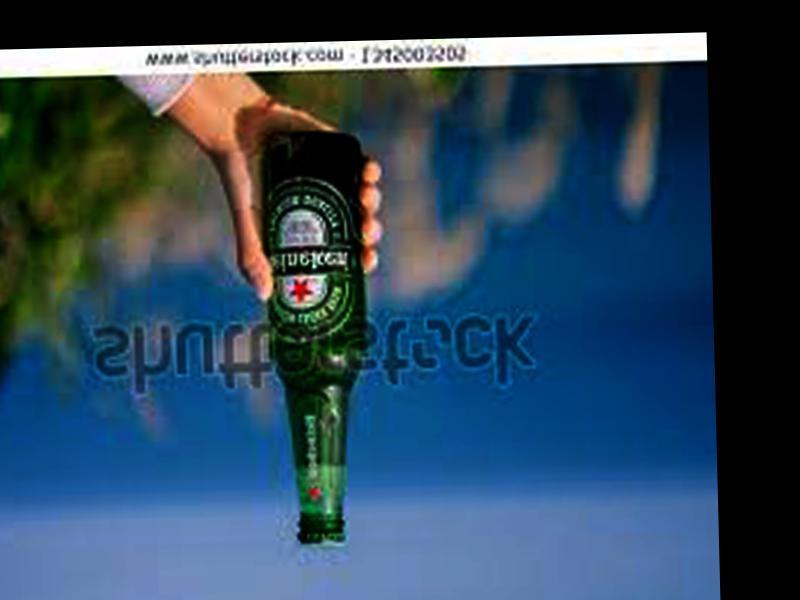Beer: (258, 136, 370, 546)
